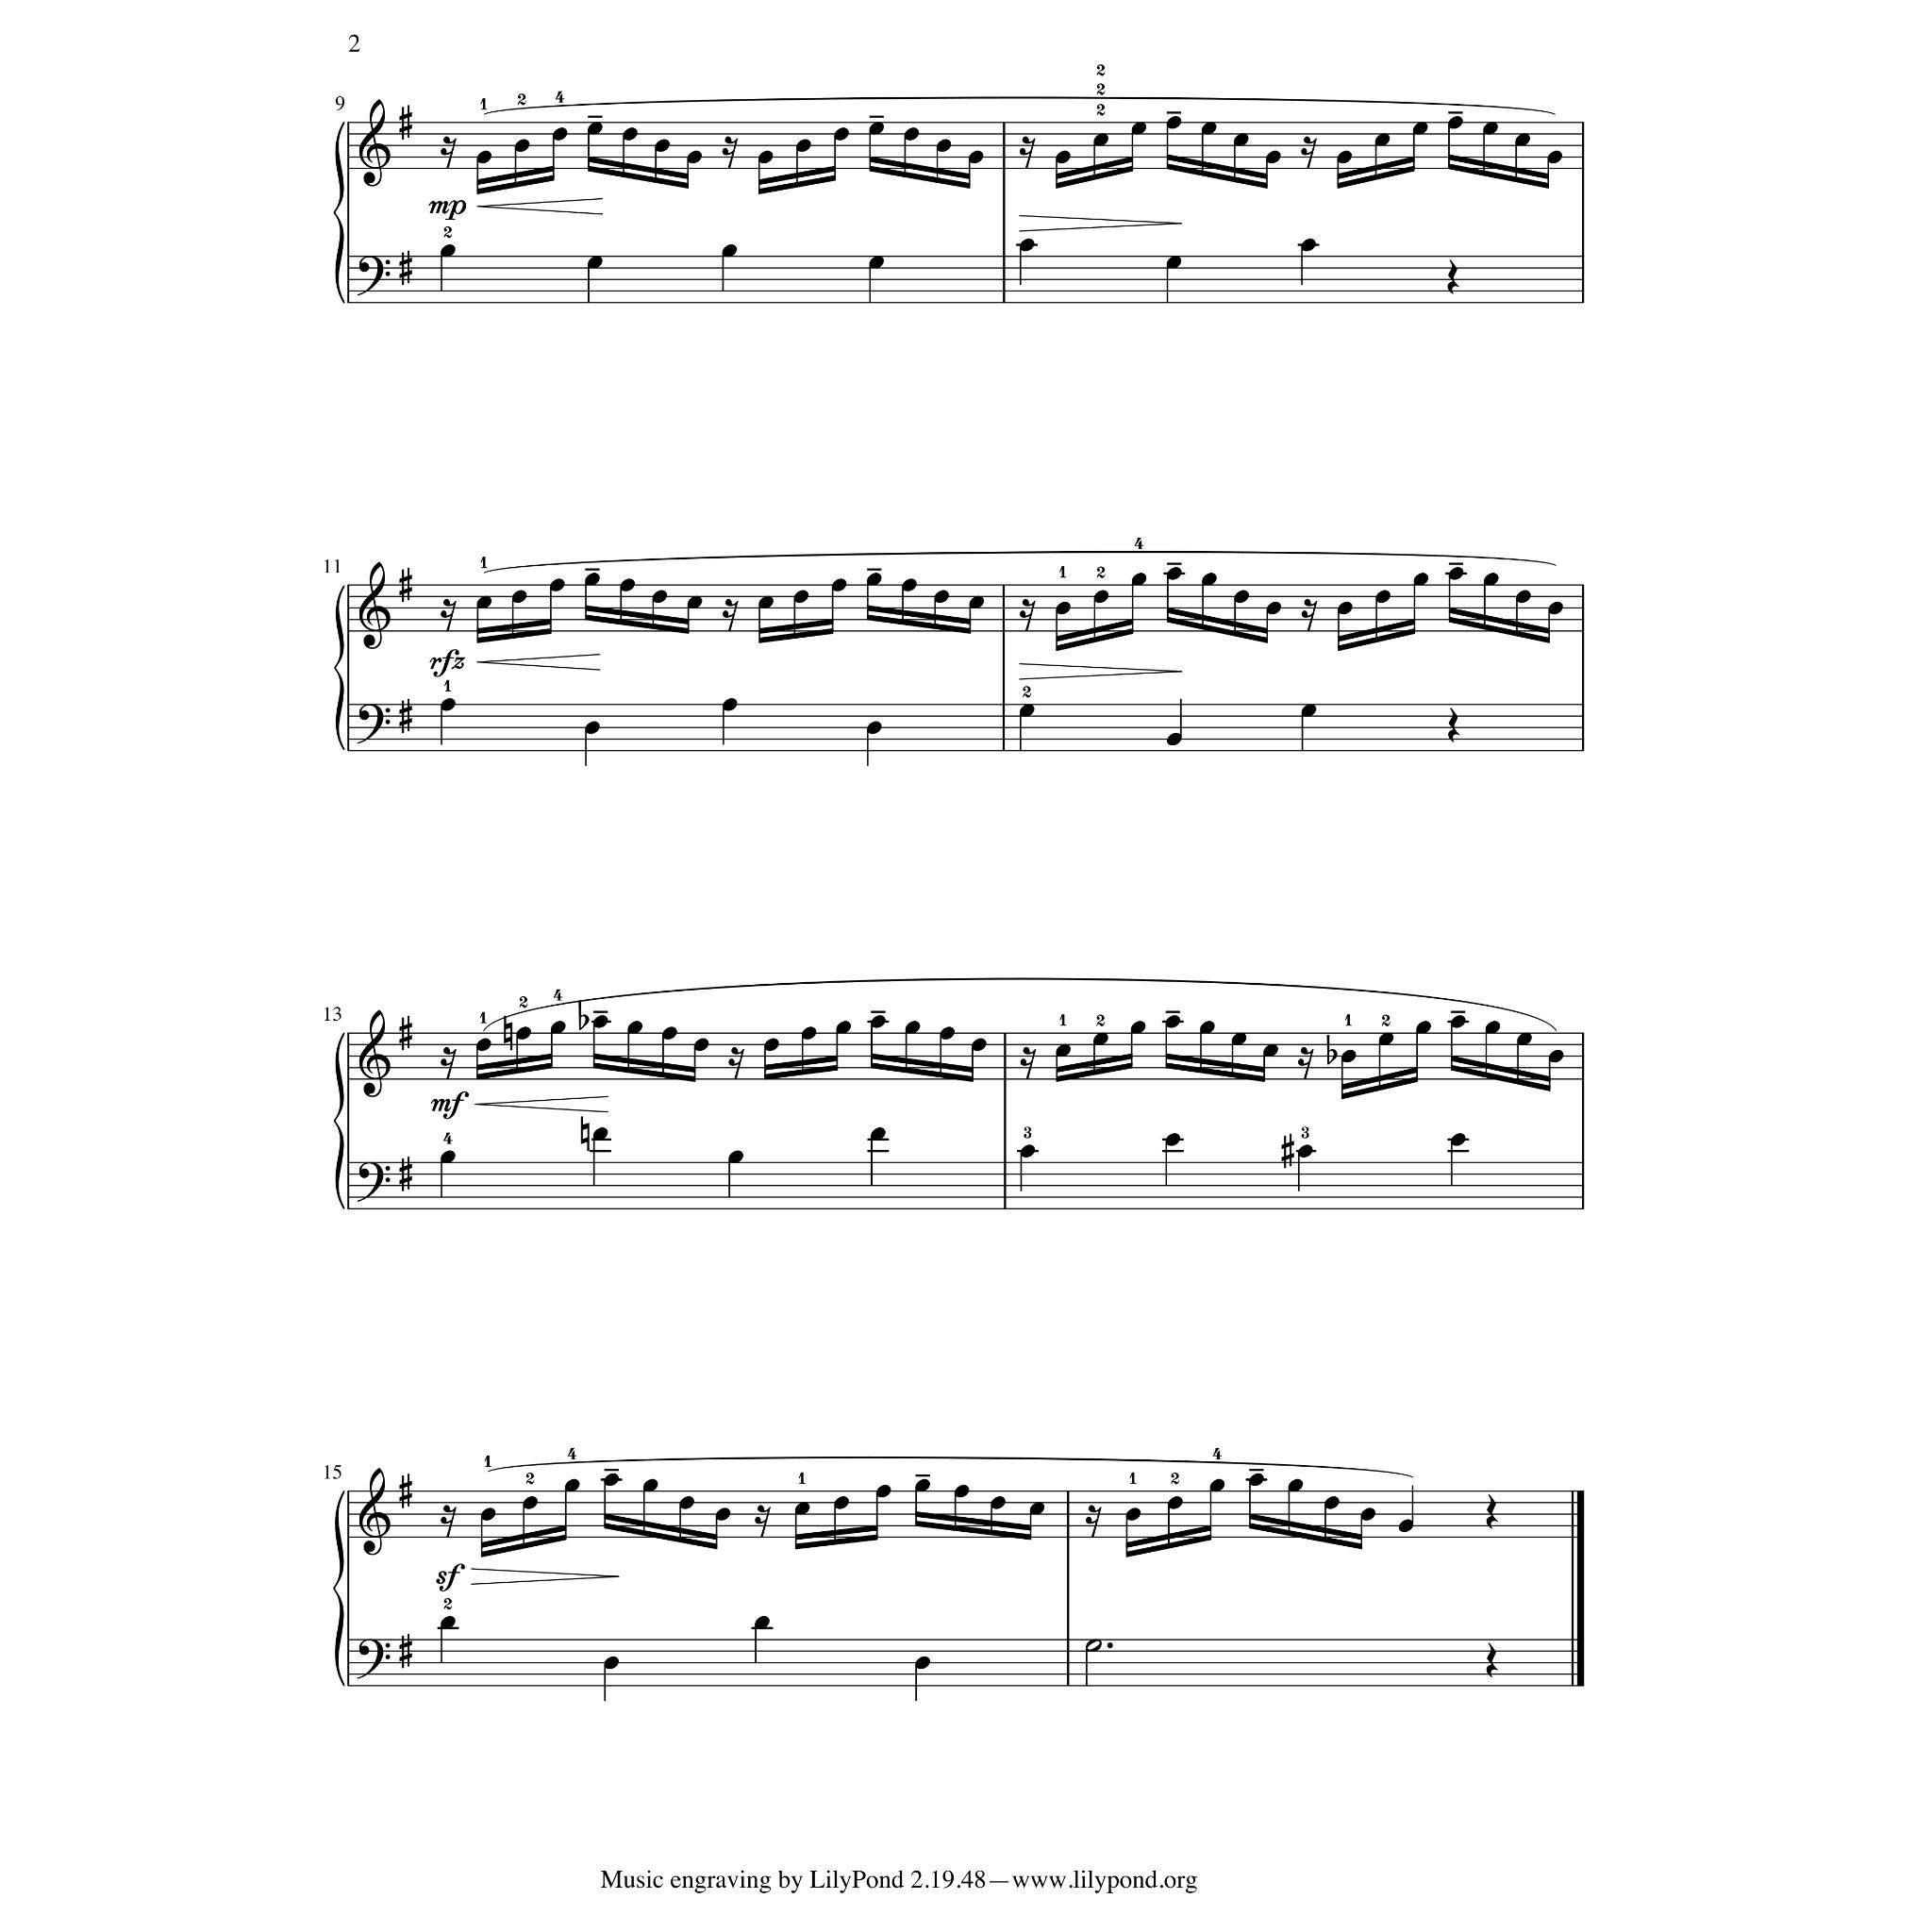brace: (333, 1490, 345, 1688), (333, 122, 345, 304), (333, 1033, 345, 1210), (333, 586, 345, 750)
fClef: (357, 257, 391, 297), (357, 704, 391, 745), (357, 1162, 391, 1203), (357, 1638, 391, 1679)
gClef: (359, 99, 391, 188), (359, 561, 391, 649), (359, 1010, 391, 1099), (359, 1467, 391, 1555)
noteheadBlack: (830, 579, 847, 593), (901, 579, 918, 593), (1166, 255, 1182, 269), (1166, 115, 1182, 129), (1054, 150, 1070, 165), (1546, 150, 1562, 165), (1336, 150, 1352, 165), (1447, 115, 1463, 129), (586, 255, 602, 269), (476, 150, 492, 165), (441, 244, 456, 258), (686, 150, 702, 165), (869, 255, 885, 269), (722, 244, 738, 258), (757, 150, 773, 165), (968, 150, 984, 165), (1166, 732, 1182, 747), (1166, 566, 1182, 580), (1265, 602, 1281, 616), (1233, 591, 1249, 605), (1093, 591, 1109, 605), (1054, 602, 1070, 616), (1548, 602, 1564, 616), (1516, 591, 1532, 605), (1375, 591, 1391, 605), (1447, 566, 1463, 580), (550, 579, 566, 593), (511, 591, 527, 605), (619, 579, 635, 593), (651, 591, 667, 605), (441, 697, 456, 711), (934, 591, 950, 605), (722, 697, 738, 711), (793, 591, 809, 605), (1164, 1132, 1180, 1146), (1164, 1014, 1180, 1028), (1263, 1044, 1279, 1058), (1054, 1044, 1070, 1058), (1548, 1049, 1564, 1063), (1341, 1049, 1357, 1063), (1451, 1014, 1467, 1028), (1451, 1132, 1467, 1146), (593, 1127, 609, 1141), (593, 1014, 609, 1028), (515, 1026, 531, 1040), (662, 1026, 678, 1040), (441, 1150, 456, 1164), (800, 1026, 816, 1040), (939, 1026, 955, 1040), (869, 1127, 885, 1141), (869, 1014, 885, 1028), (727, 1150, 743, 1164), (1208, 1479, 1224, 1493), (1166, 1495, 1182, 1509), (1125, 1507, 1141, 1522), (991, 1495, 1007, 1509), (954, 1484, 970, 1499), (1288, 1479, 1304, 1493), (1323, 1495, 1339, 1509), (1361, 1507, 1376, 1522), (1398, 1518, 1414, 1532), (564, 1479, 580, 1493), (522, 1495, 538, 1509), (479, 1507, 495, 1522), (603, 1656, 619, 1670), (441, 1615, 456, 1629), (833, 1495, 849, 1509), (915, 1656, 931, 1670), (915, 1479, 931, 1493), (876, 1484, 892, 1499), (754, 1615, 770, 1629), (715, 1507, 731, 1522), (679, 1495, 695, 1509), (642, 1479, 658, 1493), (1412, 573, 1430, 586), (1267, 150, 1281, 165), (1338, 602, 1352, 616), (1131, 122, 1146, 134), (1300, 239, 1316, 251), (1201, 122, 1217, 134), (1233, 134, 1249, 147), (1093, 134, 1109, 147), (1514, 134, 1530, 147), (1375, 134, 1391, 147), (1412, 122, 1428, 134), (1483, 122, 1499, 134), (552, 127, 568, 140), (586, 122, 602, 134), (513, 140, 529, 152), (655, 140, 671, 152), (623, 127, 639, 140), (833, 127, 849, 140), (936, 140, 952, 152), (796, 140, 812, 152), (904, 127, 920, 140), (869, 122, 885, 134), (1019, 239, 1035, 251), (1201, 573, 1217, 586), (1300, 704, 1316, 717), (1131, 573, 1146, 586), (1483, 573, 1499, 586), (584, 722, 600, 734), (584, 573, 600, 586), (686, 596, 702, 609), (1019, 704, 1035, 717), (476, 596, 492, 609), (867, 722, 883, 734), (867, 573, 883, 586), (968, 596, 984, 609), (757, 596, 773, 609), (1200, 1021, 1215, 1033), (1297, 1145, 1313, 1157), (1231, 1033, 1247, 1046), (1019, 1145, 1035, 1157), (1131, 1021, 1146, 1033), (1093, 1033, 1109, 1046), (1516, 1033, 1532, 1046), (1484, 1021, 1500, 1033), (1378, 1033, 1394, 1046), (1415, 1021, 1431, 1033), (550, 1021, 566, 1033), (626, 1021, 642, 1033), (476, 1039, 492, 1051), (835, 1021, 851, 1033), (904, 1021, 920, 1033), (970, 1039, 985, 1051), (694, 1039, 709, 1051), (763, 1039, 778, 1051), (1249, 1474, 1265, 1486), (603, 1474, 619, 1486), (794, 1502, 810, 1514), (1030, 1502, 1044, 1514)
noteheadHalf: (1085, 1638, 1102, 1652)
rest16th: (439, 136, 456, 170), (1300, 598, 1318, 632), (439, 598, 456, 632), (1297, 1047, 1315, 1081), (1019, 1047, 1037, 1081), (439, 1047, 456, 1081), (1085, 1506, 1102, 1537), (439, 1506, 456, 1537), (754, 1506, 771, 1537), (1300, 136, 1316, 170), (1019, 136, 1035, 170), (722, 136, 738, 170), (1019, 598, 1035, 632), (722, 598, 738, 632), (729, 1047, 745, 1081)
restQuarter: (1447, 260, 1460, 295), (1447, 708, 1460, 743), (1486, 1642, 1497, 1679), (1486, 1493, 1497, 1529)
